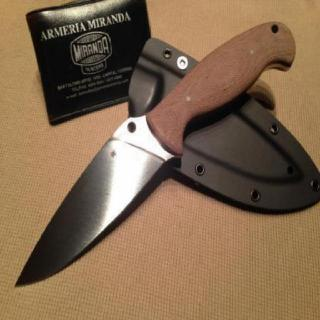knife: (11, 104, 185, 291)
